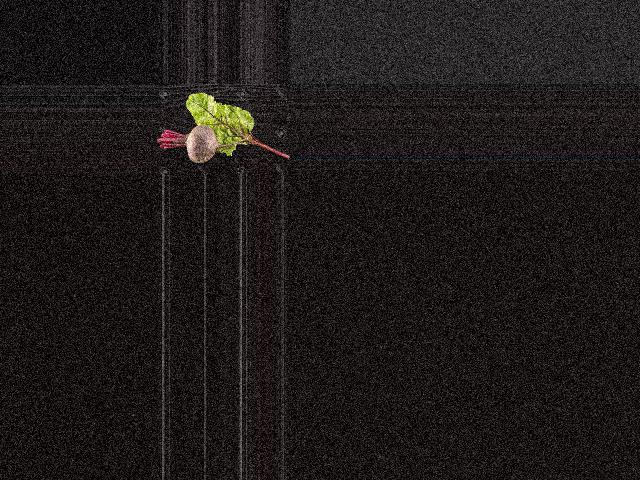beet: (156, 125, 252, 163)
